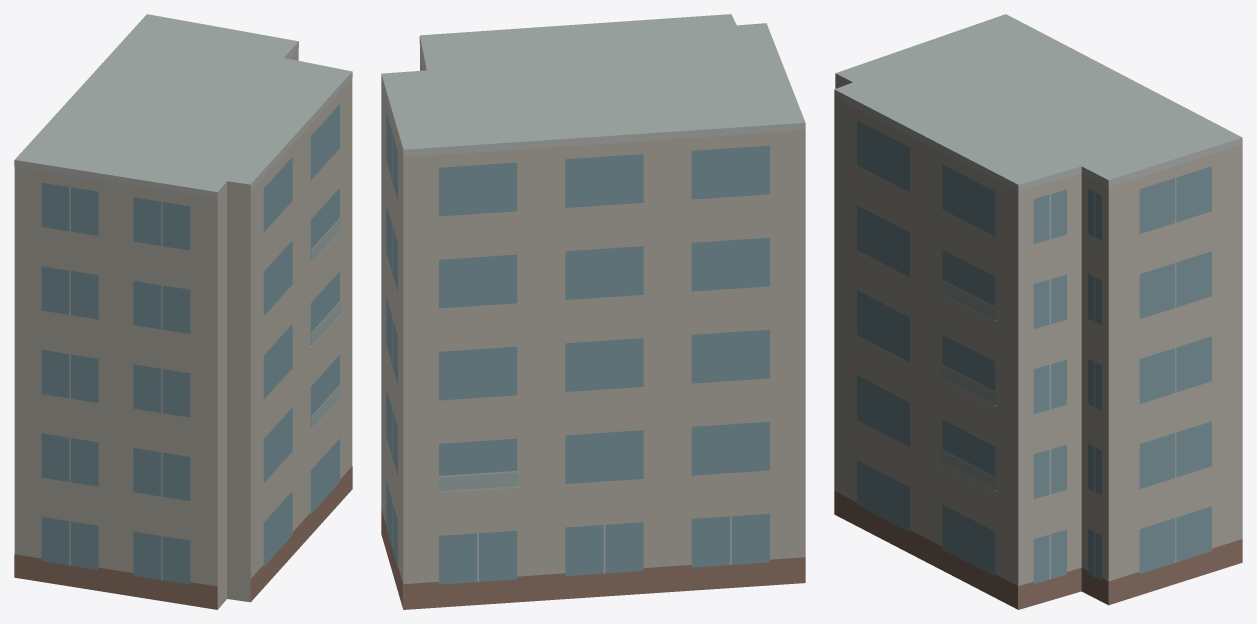
File: survey-upis-32745096.glb
3 views of the same model, side by side, from view 1: azimuth 30°, elevation 25°; view 2: azimuth 150°, elevation 25°; view 3: azimuth 270°, elevation 25° (orthographic). The views are drawn at different scales.
Parts seen in each view (by area): view 1: survey-upis-32745096.tmp; view 2: survey-upis-32745096.tmp; view 3: survey-upis-32745096.tmp.
Part boxes in pixels (bbox=[...]): survey-upis-32745096.tmp: bbox=[14, 14, 352, 609]; survey-upis-32745096.tmp: bbox=[381, 14, 805, 609]; survey-upis-32745096.tmp: bbox=[834, 14, 1242, 609].
Size of the model in its own units: 13.16 by 15.25 by 13.29.
